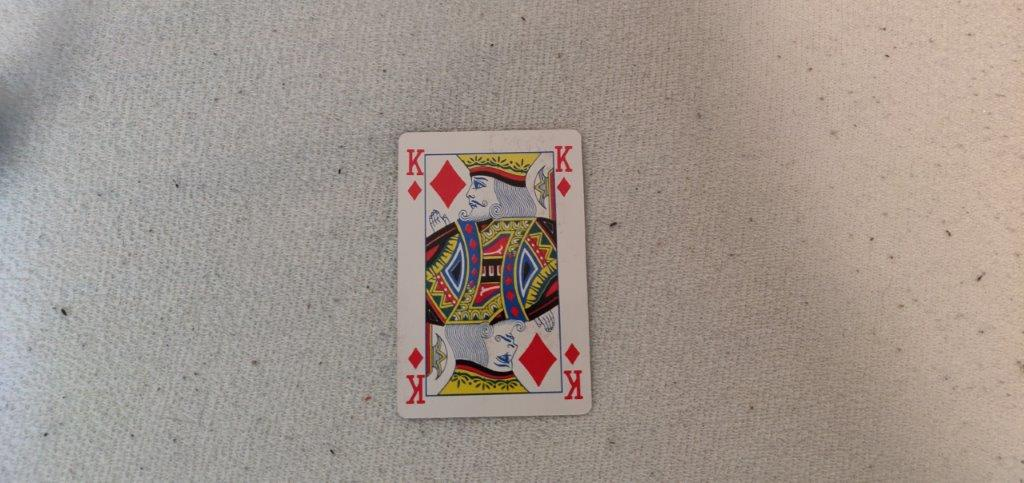KD: (404, 143, 429, 208), (553, 141, 576, 201)
